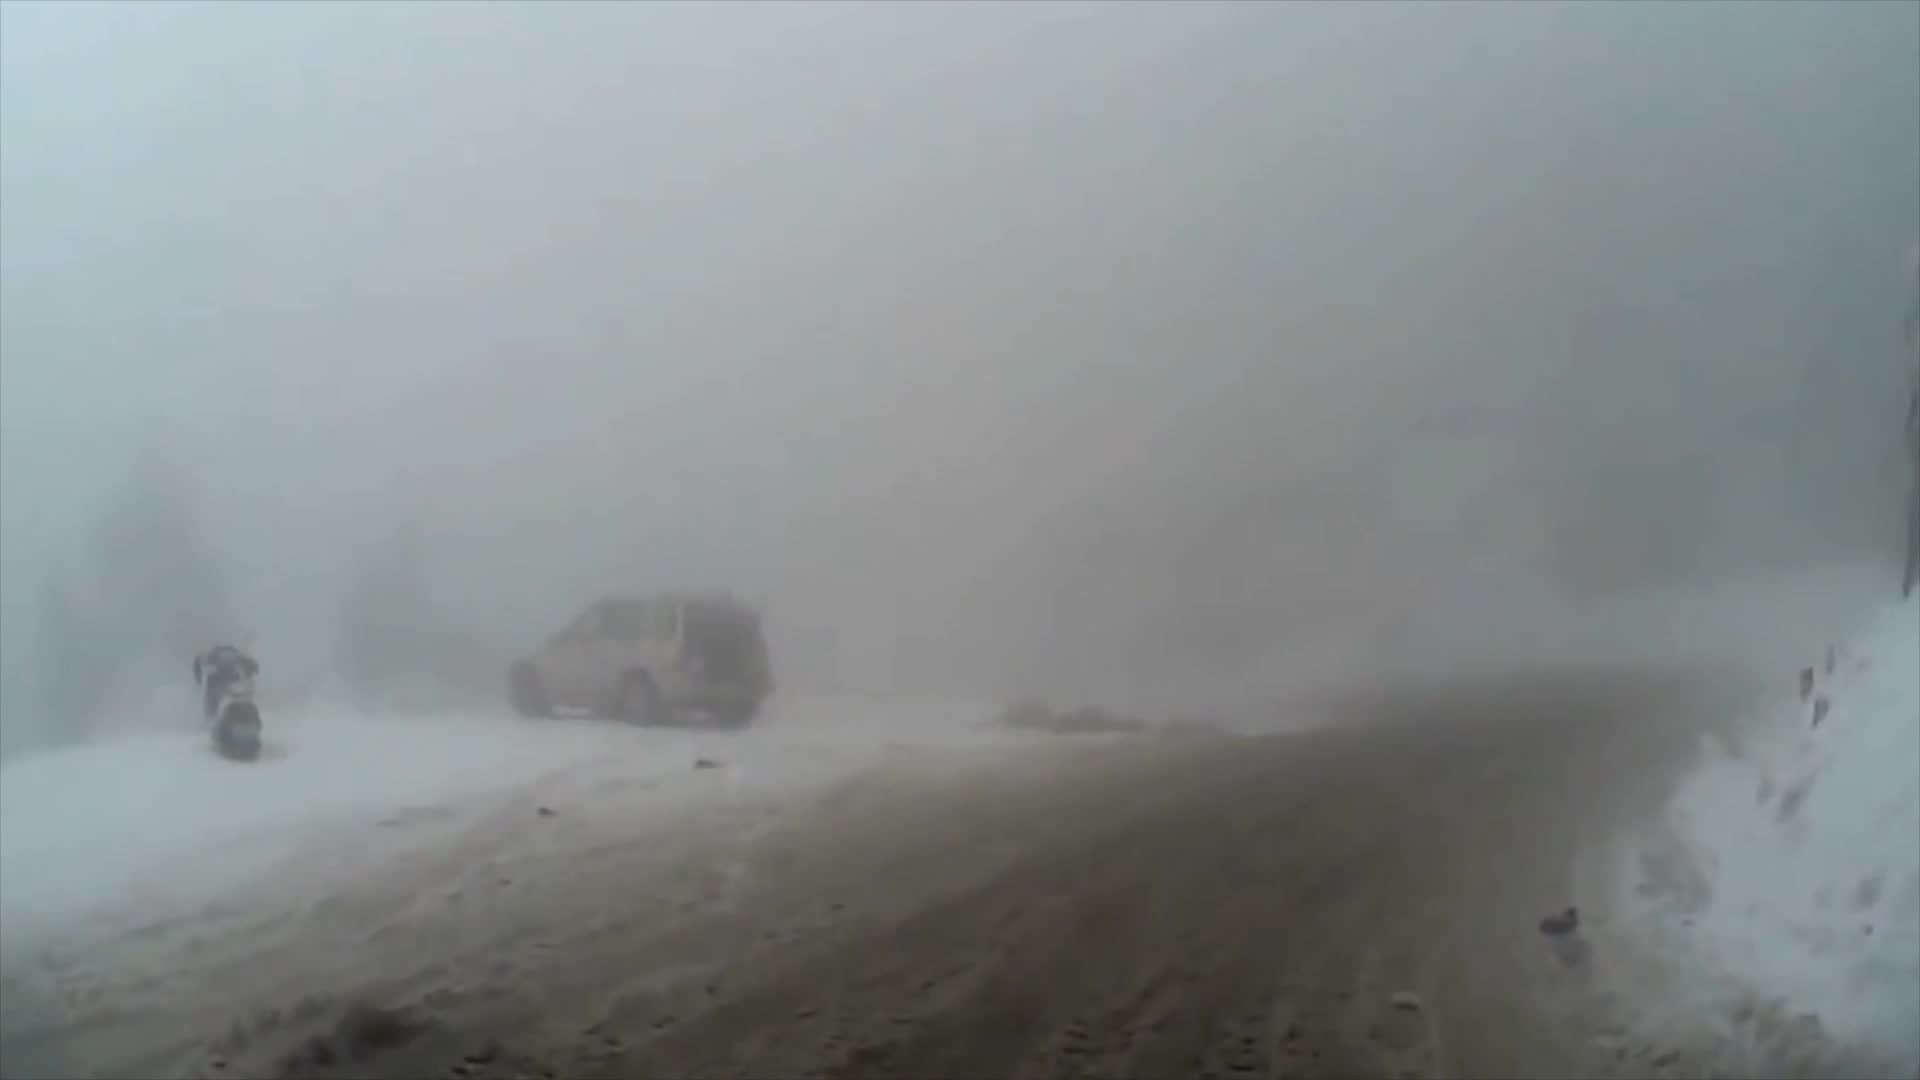vehicle: (502, 589, 771, 731)
